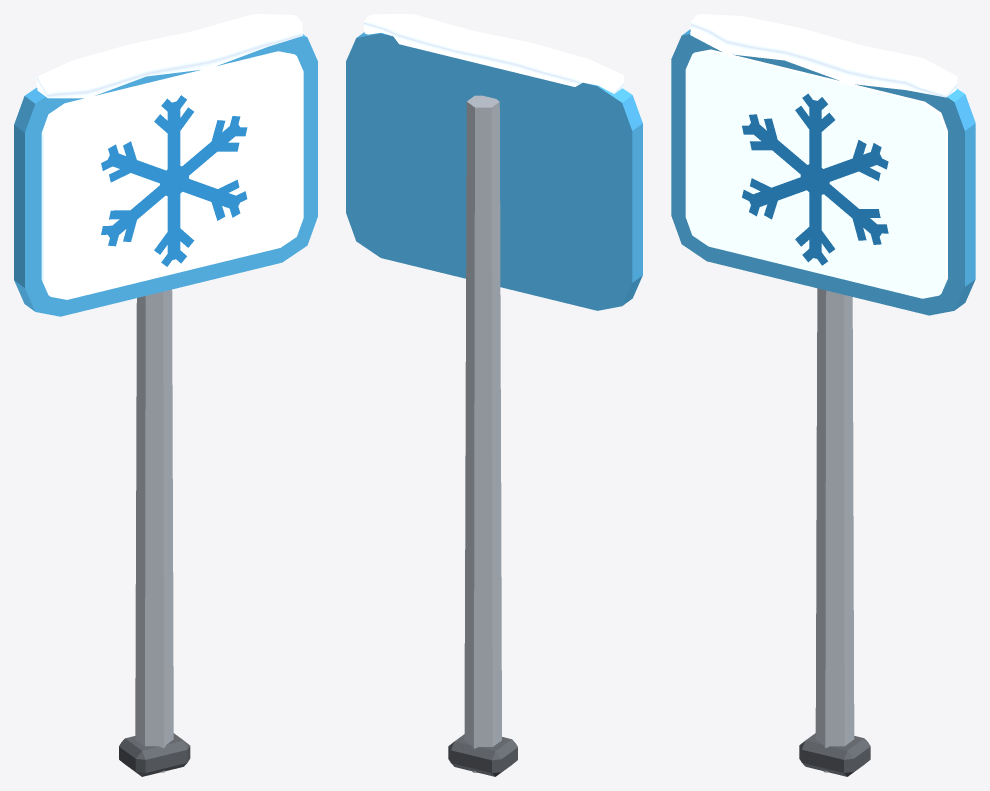
The model's file is sign-ice.glb.
3 views of the same model, side by side, from view 1: azimuth 30°, elevation 25°; view 2: azimuth 150°, elevation 25°; view 3: azimuth 330°, elevation 25° (orthographic). The views are drawn at different scales.
Visible parts, largest first — view 1: sign-ice; view 2: sign-ice; view 3: sign-ice.
Part boxes in pixels (x1,y1,x2,y2): sign-ice: [14, 14, 317, 776]; sign-ice: [346, 14, 642, 776]; sign-ice: [671, 14, 975, 776].
Size of the model in its own units: 1.4 by 3.37 by 0.275.
